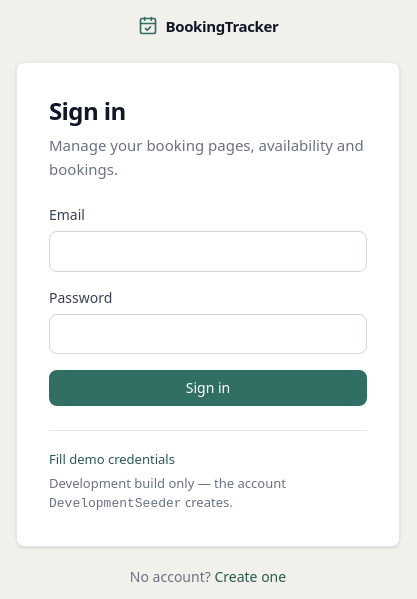
LoginPage › demo credentials › are still one click away in development, without being printed
Click the button "Fill demo credentials".
click(112, 460)  # box [49, 450, 175, 470]
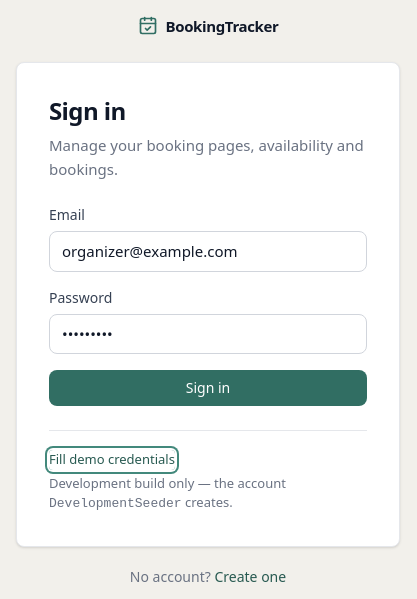
Check: the field labelled "Email" holds "organizer@example.com", box [49, 231, 367, 272]
Check: the password field labelled "Password" holds "Passw0rd!", box [49, 314, 367, 354]
